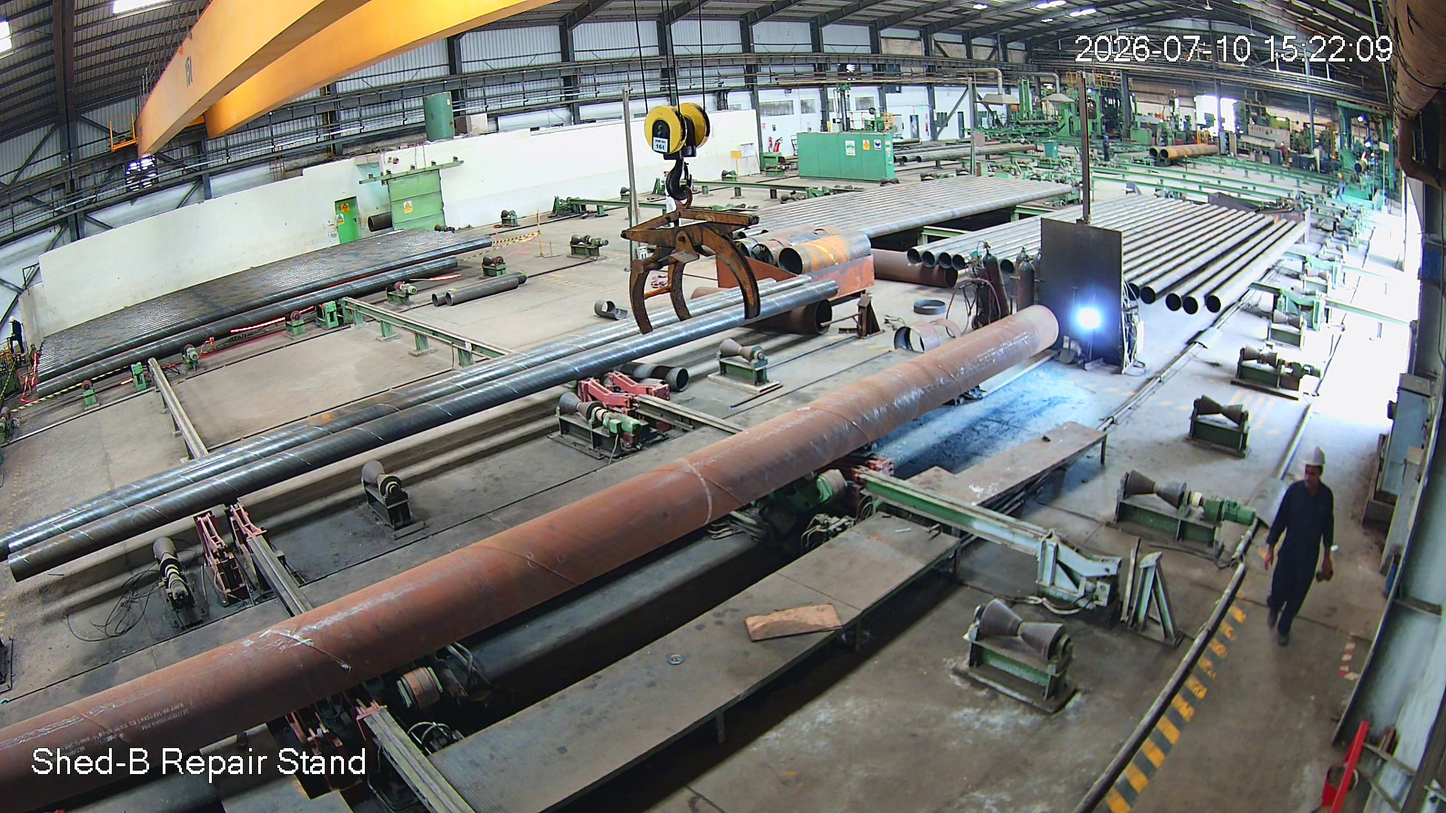Helmet: (1296, 438, 1341, 498)
Person: (1262, 443, 1340, 653)
